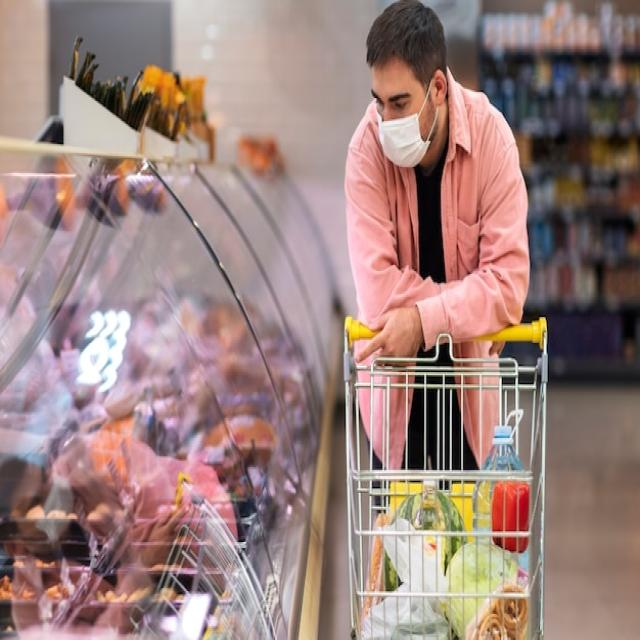Person: (345, 0, 530, 468)
